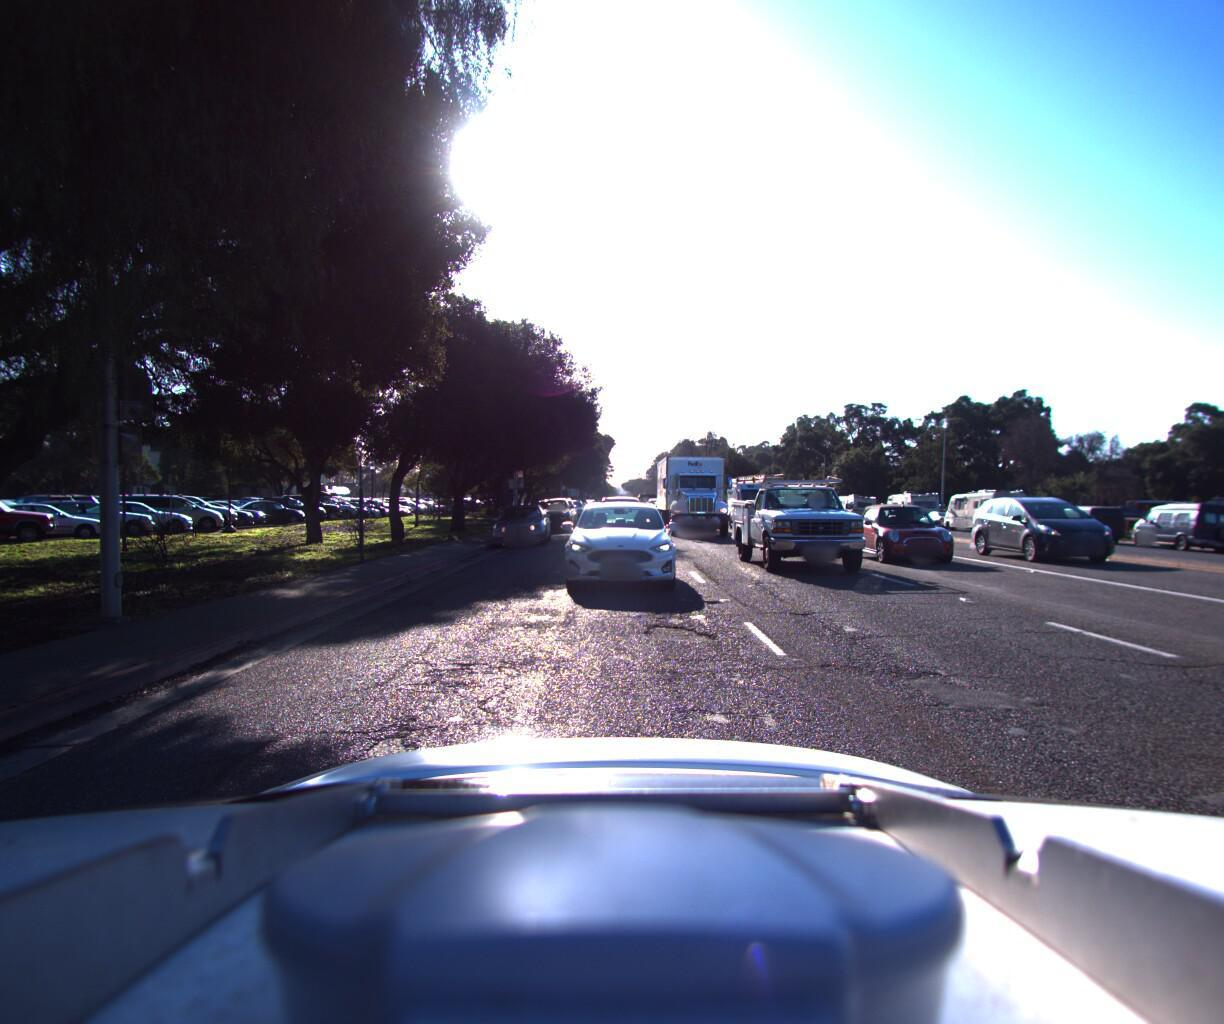car: (732, 464, 882, 578), (981, 489, 1149, 567), (557, 493, 677, 596), (855, 497, 973, 564), (1129, 498, 1224, 549), (585, 494, 647, 552), (1046, 502, 1127, 541), (721, 472, 774, 528), (489, 499, 553, 544), (535, 494, 573, 531), (917, 507, 962, 527), (634, 489, 652, 509)
other_vehicle: (938, 484, 1042, 531), (881, 486, 945, 523)
truck: (650, 448, 738, 536)
